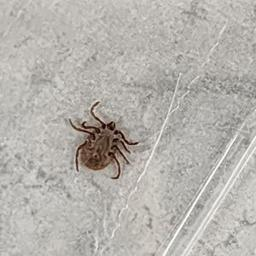Rhipicephalus sanguineus: (68, 101, 138, 181)
